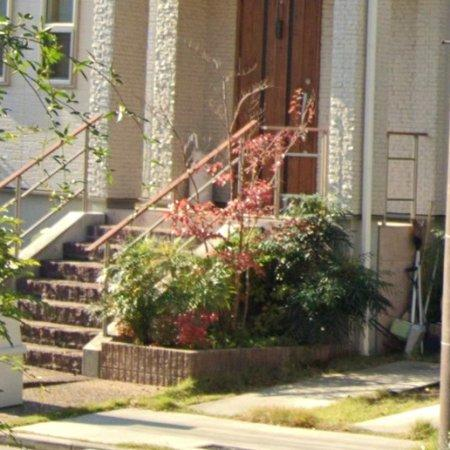stairs: (17, 225, 112, 374), (111, 209, 167, 256)
